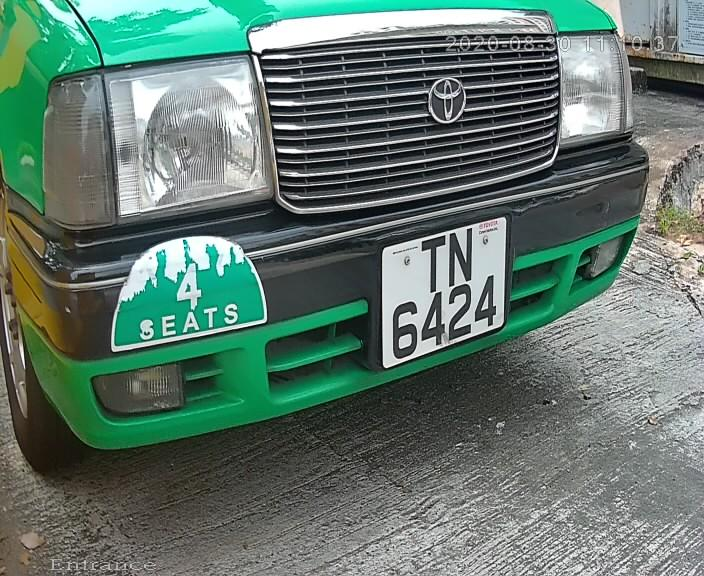Car: (32, 16, 648, 497)
License Plate: (368, 217, 510, 368)
